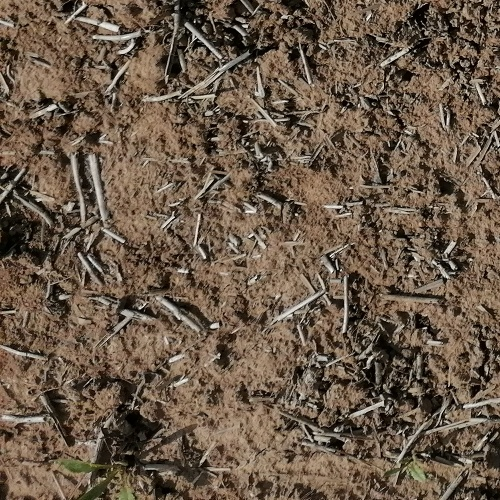beet: (62, 459, 139, 500), (383, 456, 425, 482)
